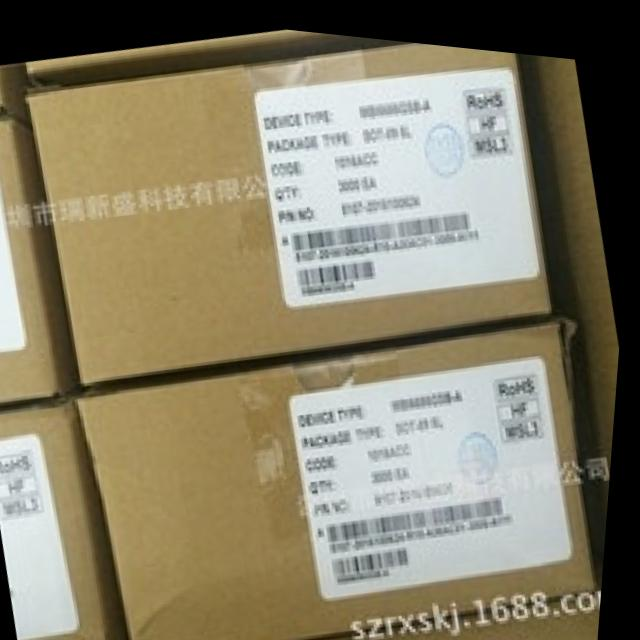box: (27, 34, 553, 381), (80, 305, 606, 640), (0, 400, 139, 640), (0, 116, 84, 405), (0, 61, 32, 128)
